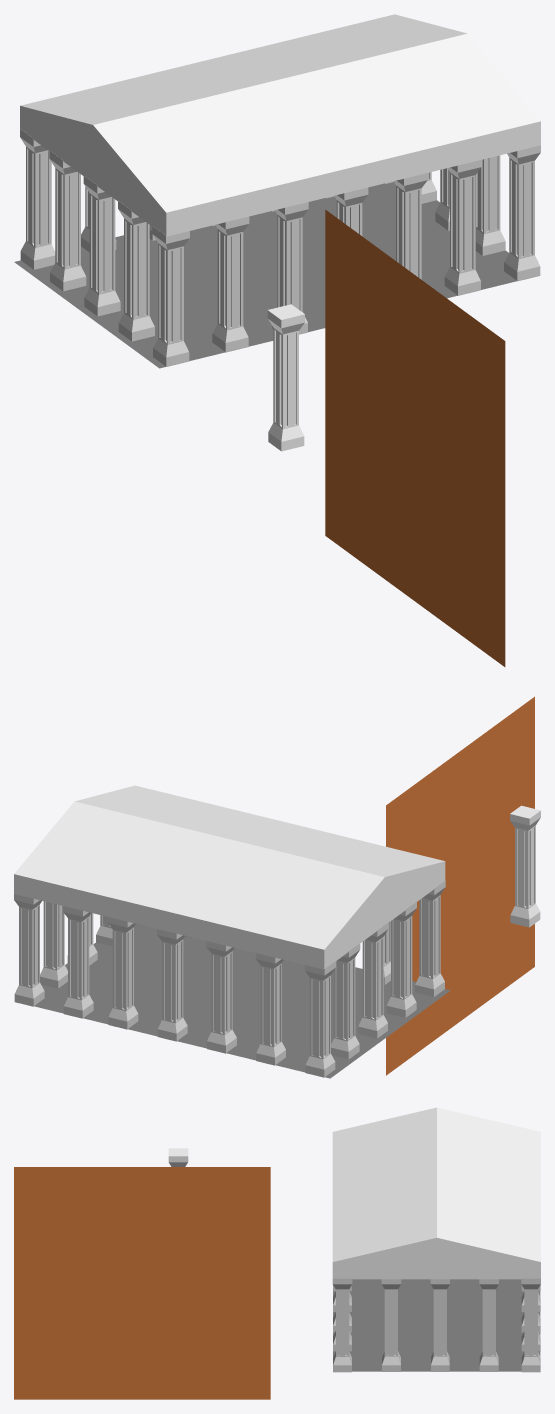
File: Pillar.fbx
The picture shows the model from 3 angles, top to bottom: view 1: azimuth 30°, elevation 25°; view 2: azimuth 150°, elevation 25°; view 3: azimuth 270°, elevation 25°; orthographic projection. The views are drawn at different scales.
Parts seen in each view (by area): view 1: Cube, Plane.001, Cube.004, Plane, Cube.002, Cube.001, Cube.003, Cube.006; view 2: Cube, Plane.001, Plane, Cube.003, Cube.002, Cube.005, Cube.004, Cube.001, Cube.006; view 3: Plane.001, Cube, Plane, Cube.006, Cube.004, Cube.005, Cube.001.
Part boxes in pixels (box(x1,y1,x2,y2)): Cube: box(20, 14, 540, 236); Plane.001: box(325, 209, 505, 666); Cube.004: box(152, 145, 540, 366); Plane: box(14, 182, 517, 368); Cube.002: box(49, 150, 154, 341); Cube.001: box(267, 304, 304, 451); Cube.003: box(20, 129, 274, 269); Cube.006: box(421, 155, 505, 255); Cube: box(14, 785, 445, 969); Plane.001: box(386, 696, 534, 1075); Plane: box(34, 924, 450, 1078); Cube.003: box(108, 917, 335, 1077); Cube.002: box(331, 901, 416, 1059); Cube.005: box(14, 894, 93, 1018); Cube.004: box(136, 880, 445, 996); Cube.001: box(510, 805, 540, 927); Cube.006: box(40, 901, 112, 988); Plane.001: box(14, 1167, 270, 1399); Cube: box(332, 1107, 540, 1279); Plane: box(333, 1279, 540, 1371); Cube.006: box(381, 1279, 498, 1371); Cube.004: box(332, 1278, 352, 1372); Cube.005: box(521, 1278, 540, 1372); Cube.001: box(168, 1148, 188, 1166).
Size of the model in its own units: 3326 by 2947 by 5588.
